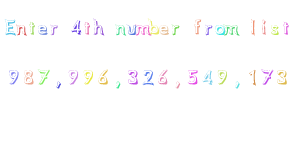,: (54, 78, 62, 91), (112, 80, 122, 90), (233, 79, 242, 90), (173, 80, 182, 90)
1: (247, 68, 259, 87)
3: (126, 69, 139, 85), (142, 68, 154, 84), (276, 69, 287, 85)
4: (70, 18, 81, 35), (202, 70, 213, 85)
5: (187, 69, 198, 85)
6: (157, 68, 169, 85), (97, 68, 109, 84)
7: (260, 68, 274, 86), (38, 69, 49, 85)
8: (22, 69, 35, 85)
9: (82, 68, 93, 85), (217, 69, 228, 86), (7, 69, 19, 84), (68, 68, 78, 85)
E: (3, 16, 17, 36)
b: (148, 17, 160, 35)
e: (36, 24, 48, 36), (159, 24, 169, 36)
f: (193, 16, 201, 35)
h: (93, 16, 105, 36)
i: (260, 18, 268, 36)
l: (248, 17, 256, 35)
m: (223, 23, 240, 36), (136, 23, 150, 35)
n: (114, 23, 126, 35), (16, 24, 27, 36)
o: (214, 24, 225, 36)
r: (49, 24, 59, 35), (172, 24, 180, 36), (205, 24, 213, 36)
s: (270, 24, 280, 35)
t: (281, 18, 289, 35), (28, 19, 36, 35), (83, 21, 91, 35)
u: (127, 24, 137, 35)
